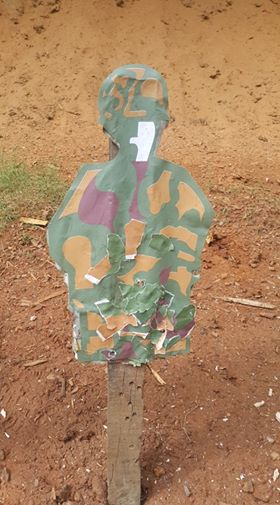Bullet: (192, 268, 200, 277), (136, 280, 145, 288), (108, 351, 115, 357)
